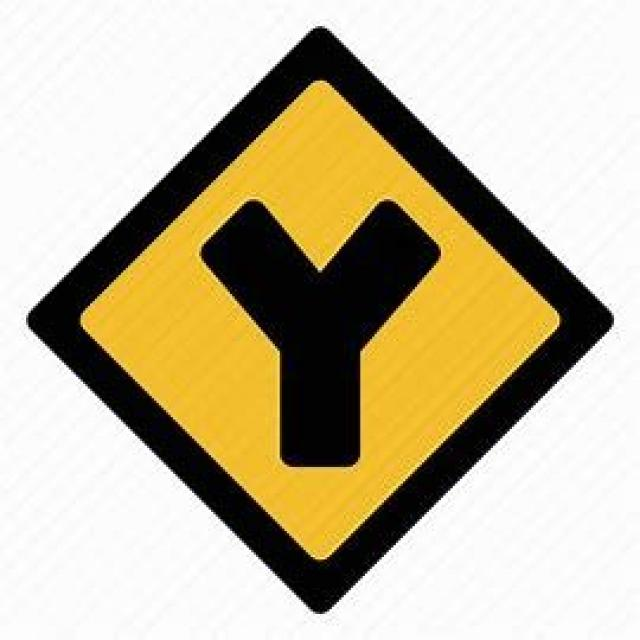Y_INTERSECTION: (19, 21, 616, 612)
